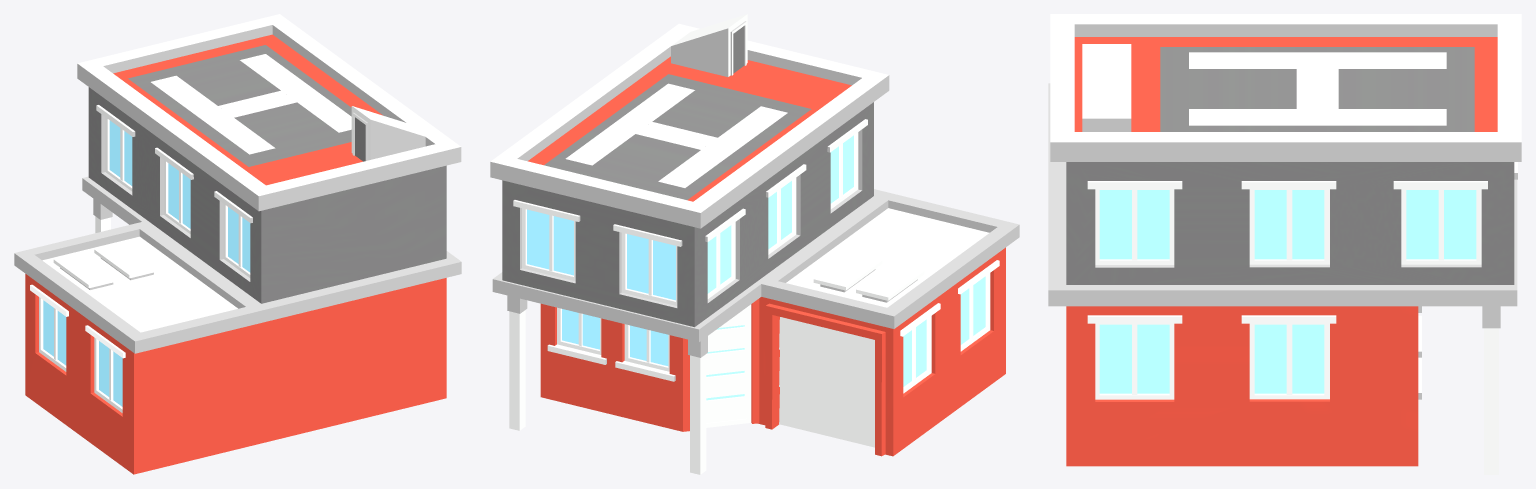
Rendered from purpose.008.glb.
3 renders of one model, left to right at view 1: azimuth 30°, elevation 25°; view 2: azimuth 150°, elevation 25°; view 3: azimuth 270°, elevation 25°, orthographic. The views are drawn at different scales.
Visible parts, largest first — view 1: purpose.008(Clone); view 2: purpose.008(Clone); view 3: purpose.008(Clone).
Boxes of the visible parts, x1,y1,x2,y2 form: purpose.008(Clone): [14, 14, 461, 474]; purpose.008(Clone): [490, 14, 1019, 474]; purpose.008(Clone): [1048, 14, 1521, 474].
Bounding box in the file's own units: 7.95 × 6.92 × 7.67.
Materials: 1 (1 with a texture image).
